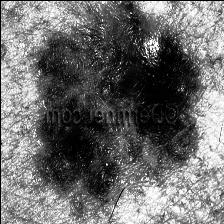Potentially Malignant Skin Tumors: (24, 5, 203, 102), (31, 122, 202, 206)
